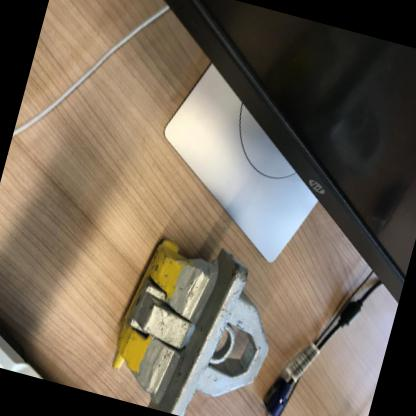Twistlock: (97, 222, 294, 415)
